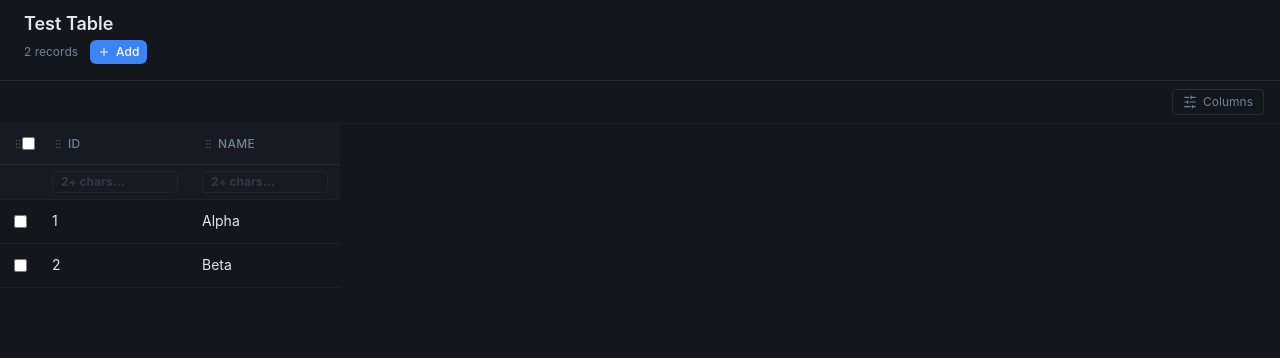
Test: TablePage bulk edit › select-all checkbox selects all visible rows
expect the text "2 records" is shown: met, box [24,44,78,60]
Click the checkbox named "Select all". click: (28, 144)
box: [22,137,34,150]
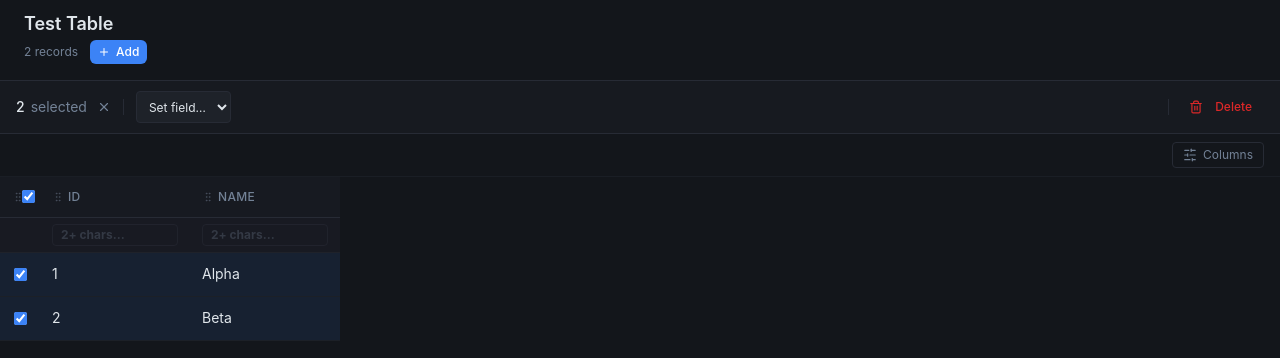
expect the element with test id "bulk-edit-bar" is shown: met, box [0,81,1279,134]
expect the text "2" is shown: met, box [16,97,25,117]
